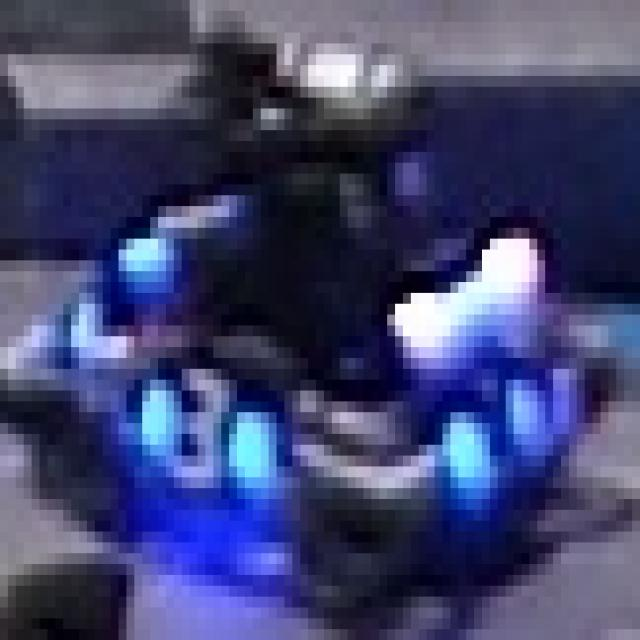B3: (134, 358, 284, 499)
